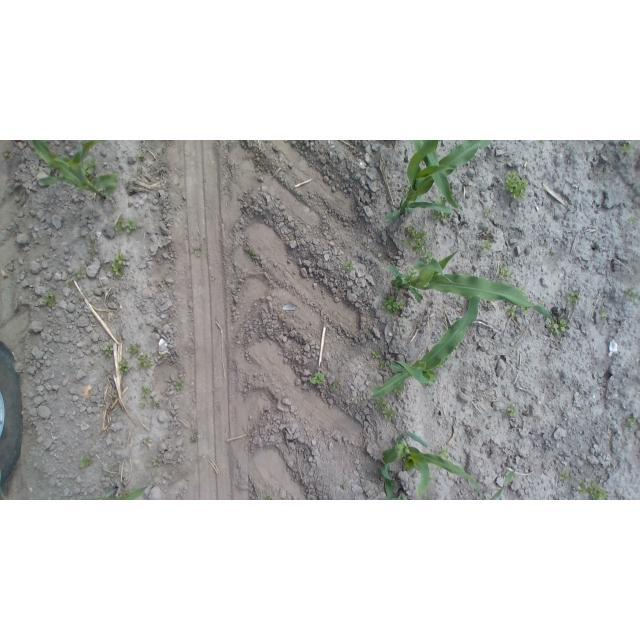Maize: (387, 250, 562, 338), (370, 296, 480, 399), (383, 141, 492, 222), (379, 432, 483, 500), (32, 140, 121, 200), (88, 484, 150, 500), (488, 468, 514, 500), (390, 489, 411, 500)
Weeds: (402, 225, 433, 264), (504, 171, 530, 201), (578, 480, 608, 500), (374, 397, 398, 421), (114, 217, 138, 234), (111, 252, 126, 277), (81, 155, 97, 176), (550, 320, 567, 339), (39, 293, 57, 308), (497, 267, 512, 282), (118, 358, 132, 374), (0, 472, 8, 500), (565, 292, 579, 307), (625, 287, 640, 301), (139, 354, 154, 368), (431, 210, 452, 220), (78, 454, 92, 468), (311, 372, 325, 385), (439, 446, 450, 461), (394, 384, 407, 396), (127, 344, 139, 357), (140, 385, 153, 397), (506, 406, 518, 418), (482, 238, 492, 252), (620, 143, 632, 154), (380, 359, 393, 369), (104, 344, 114, 357), (173, 379, 184, 390), (76, 267, 86, 279), (517, 287, 527, 299), (506, 307, 516, 318), (628, 417, 639, 427), (344, 261, 353, 272), (436, 196, 447, 205), (559, 472, 569, 481), (630, 215, 639, 225), (371, 350, 381, 358), (428, 377, 438, 385), (137, 150, 145, 160), (249, 249, 256, 260), (484, 207, 491, 217), (437, 360, 445, 368), (152, 459, 160, 467), (151, 400, 159, 408), (601, 310, 608, 319), (539, 300, 546, 307), (423, 492, 429, 500), (136, 167, 142, 175), (521, 307, 530, 312), (66, 282, 72, 289), (264, 496, 272, 501), (49, 168, 56, 173), (538, 140, 545, 145), (157, 355, 163, 360), (4, 151, 9, 157), (197, 252, 202, 257), (140, 404, 145, 409), (344, 483, 348, 489), (333, 384, 337, 389), (143, 438, 147, 443), (548, 250, 552, 255)
